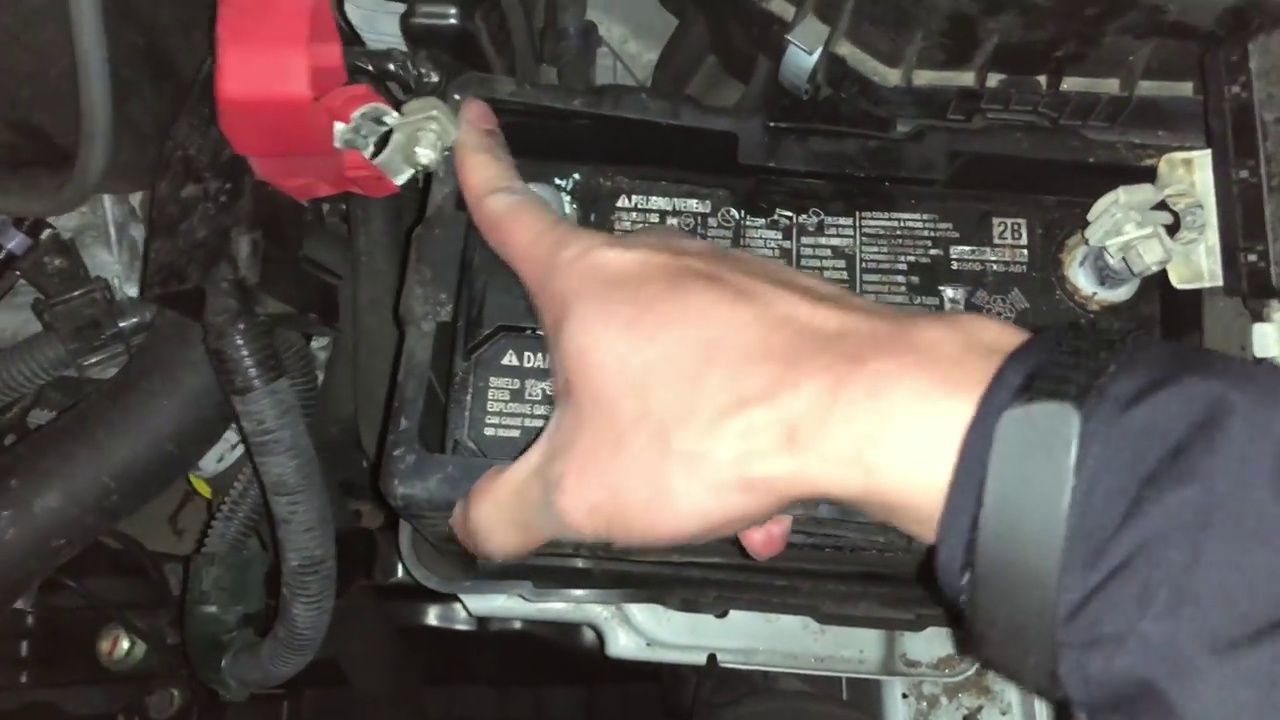battery: (438, 91, 1171, 588)
neg_disconnected: (1020, 114, 1254, 329)
pos_touched: (306, 57, 582, 276)
